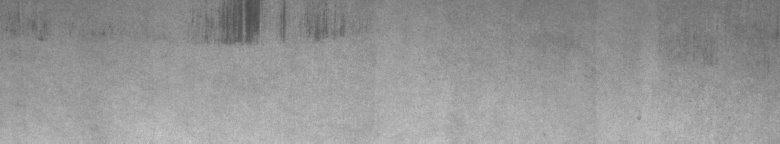ka: (205, 4, 348, 52)
